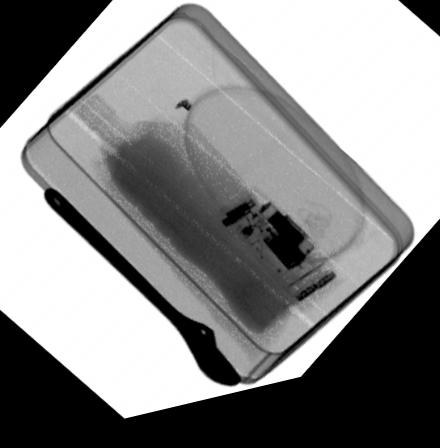Wrench: (40, 185, 244, 400)
